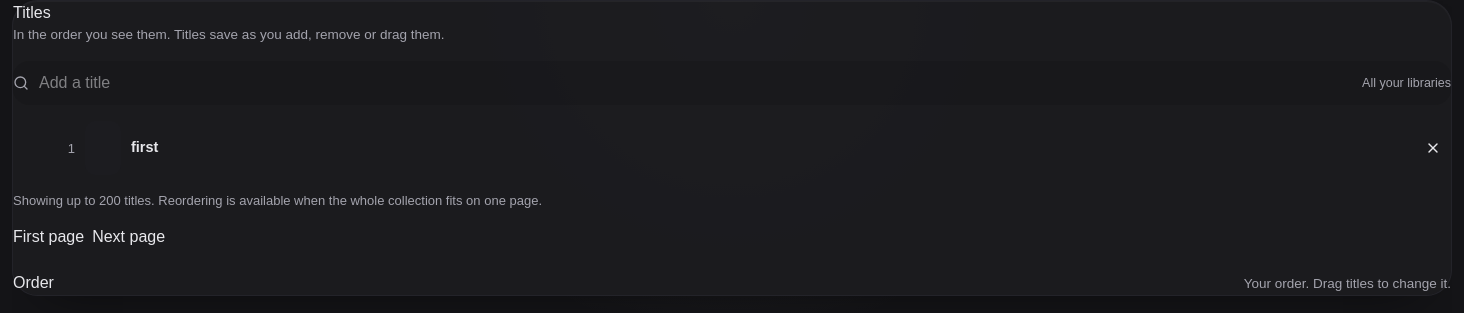
Scenario: manual collection paging › replaces the visible page and disables full-order dragging for partial membership
Click the button "Next page". click: (129, 237)
box: top-left (92, 219), bottom-right (165, 255)
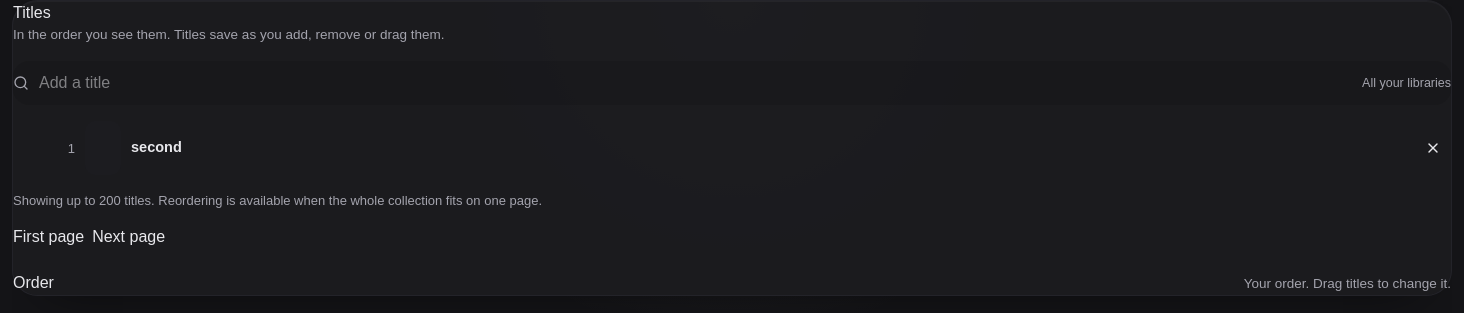
Check: the text "second" is shown, box top-left (131, 139), bottom-right (182, 155)
Click the button "First page". click: (49, 237)
box: top-left (13, 219), bottom-right (84, 255)
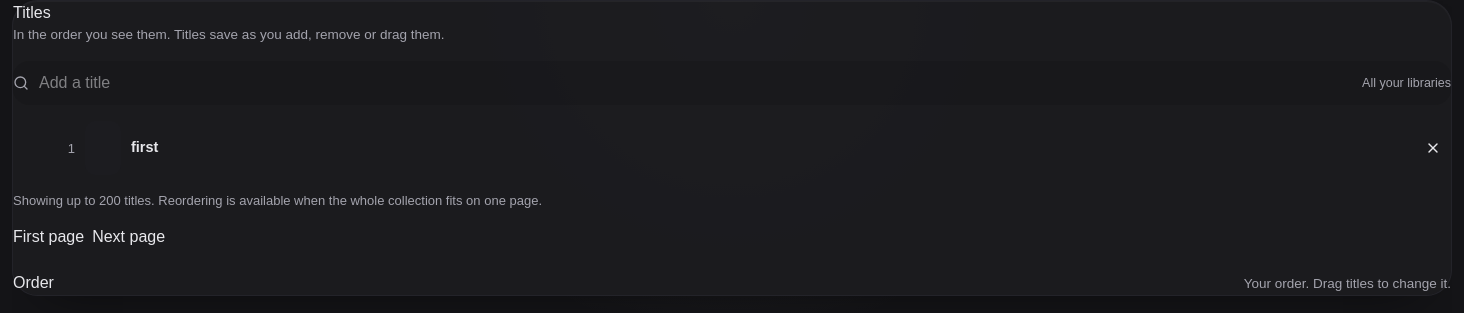
Check: the text "first" is shown, box top-left (131, 139), bottom-right (158, 155)
